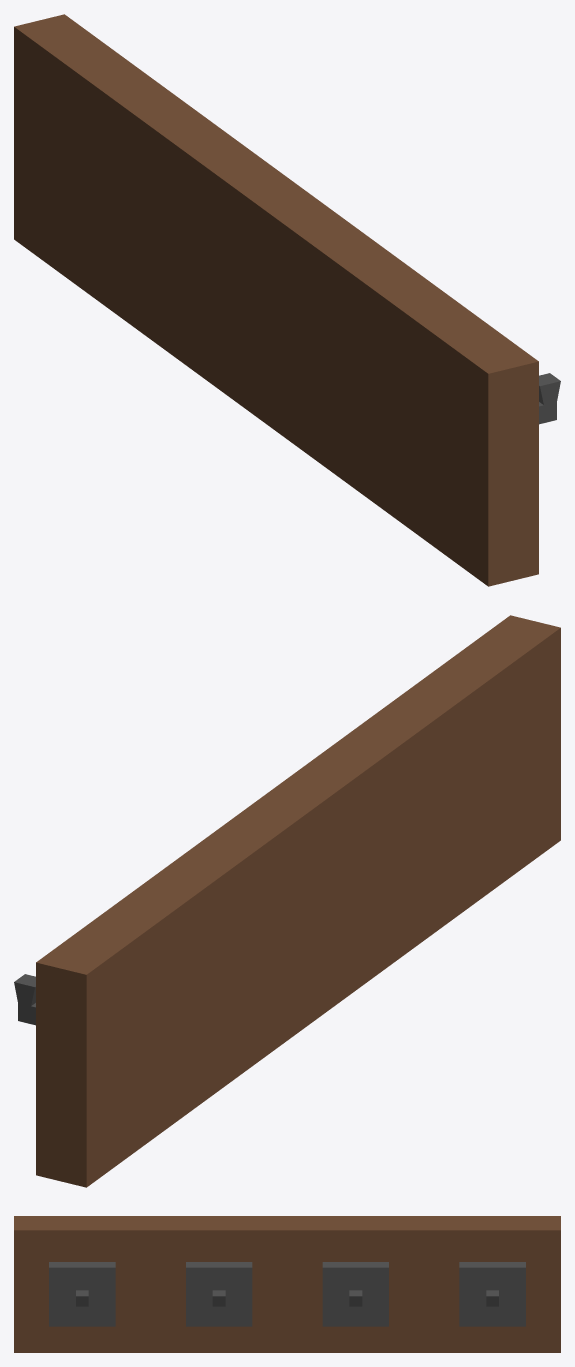
The model's file is PorteManteauMur.fbx.
3 views of the same model, one above another, from view 1: azimuth 30°, elevation 25°; view 2: azimuth 150°, elevation 25°; view 3: azimuth 270°, elevation 25° (orthographic). The views are drawn at different scales.
Visible parts, largest first — view 1: PorteManteaux.001; view 2: PorteManteaux.001; view 3: PorteManteaux.001.
Boxes of the visible parts, <box> form: PorteManteaux.001: <box>14,14,560,586</box>; PorteManteaux.001: <box>14,615,560,1187</box>; PorteManteaux.001: <box>14,1216,560,1352</box>.
Bounding box in the file's own units: 71.67 × 115 × 466.
